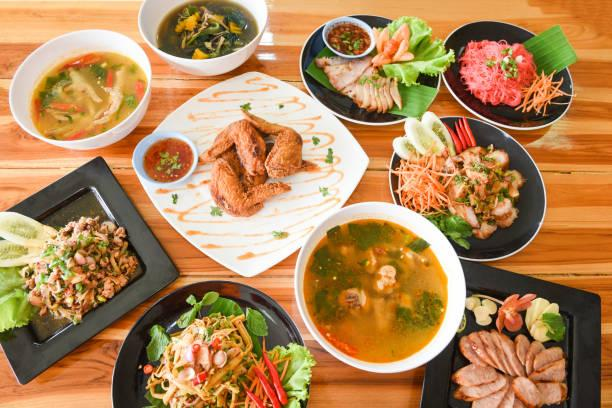Braised Crucian Carp: (136, 70, 356, 275), (1, 158, 181, 378), (294, 201, 461, 373), (427, 257, 604, 408), (111, 280, 306, 406), (389, 115, 546, 261), (9, 28, 152, 149), (299, 13, 433, 128), (440, 19, 572, 131), (138, 0, 267, 77)
